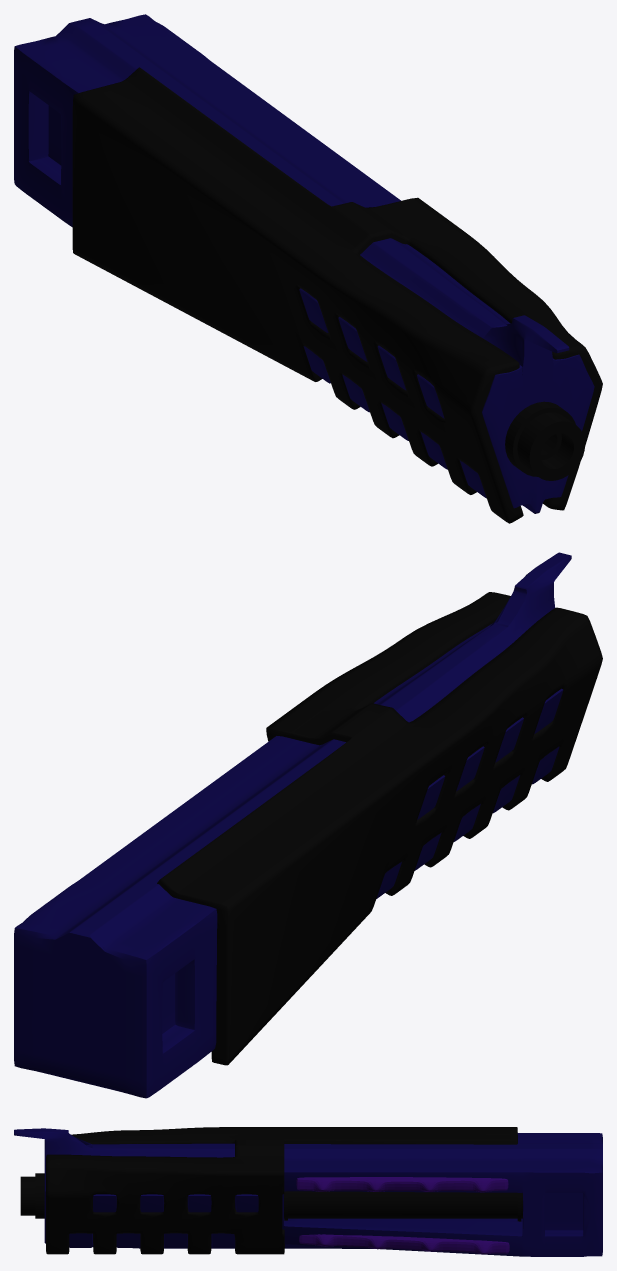
Rendered from pistol.fbx.
3 renders of one model, top to bottom at view 1: azimuth 30°, elevation 25°; view 2: azimuth 150°, elevation 25°; view 3: azimuth 270°, elevation 25°, orthographic. The views are drawn at different scales.
Visible parts, largest first — view 1: pistol plate, pistol body, pistol barrel; view 2: pistol plate, pistol body; view 3: pistol body, pistol plate, pistol barrel, pistol deco, pistol deco.001.
Part boxes in pixels (x1,y1,x2,y2): pistol plate: (72,67,602,523); pistol body: (14,14,594,513); pistol barrel: (505,401,585,480); pistol plate: (157,592,602,1065); pistol body: (14,552,571,1098); pistol body: (14,1128,602,1256); pistol plate: (46,1127,517,1254); pistol barrel: (20,1173,522,1221); pistol deco: (296,1177,508,1192); pistol deco.001: (299,1234,509,1254).
Size of the model in its own units: 17.81 by 20.94 by 94.69.
